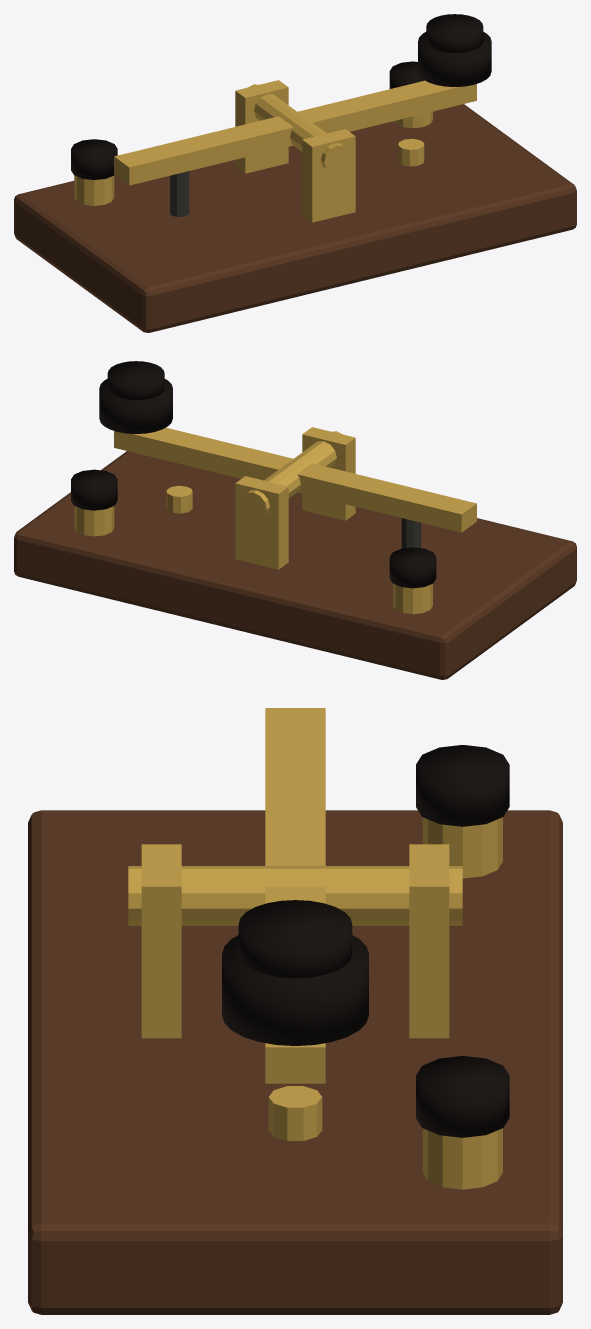
The model's file is morse_key.glb.
The picture shows the model from 3 angles, top to bottom: view 1: azimuth 30°, elevation 25°; view 2: azimuth 150°, elevation 25°; view 3: azimuth 270°, elevation 25°; orthographic projection. The views are drawn at different scales.
Visible parts, largest first — view 1: morse_key_wood, key_lever_brass, morse_key_brass, key_lever_bakelite, morse_key_bakelite, morse_key_metal_dark; view 2: morse_key_wood, key_lever_brass, morse_key_brass, key_lever_bakelite, morse_key_bakelite, morse_key_metal_dark; view 3: morse_key_wood, morse_key_brass, key_lever_brass, key_lever_bakelite, morse_key_bakelite.
Part boxes in pixels (box(x1,y1,x2,y2)): morse_key_wood: box(14, 104, 576, 332); key_lever_brass: box(114, 80, 476, 185); morse_key_brass: box(74, 80, 432, 222); key_lever_bakelite: box(418, 14, 491, 86); morse_key_bakelite: box(71, 61, 424, 179); morse_key_metal_dark: box(170, 171, 189, 216); morse_key_wood: box(14, 451, 576, 679); key_lever_brass: box(114, 427, 476, 532); morse_key_brass: box(74, 427, 432, 614); key_lever_bakelite: box(99, 361, 172, 433); morse_key_bakelite: box(71, 469, 436, 588); morse_key_metal_dark: box(401, 518, 420, 548); morse_key_wood: box(28, 810, 562, 1314); morse_key_brass: box(141, 817, 502, 1189); key_lever_brass: box(128, 708, 462, 1083); key_lever_bakelite: box(222, 900, 368, 1045); morse_key_bakelite: box(416, 745, 509, 1137).
Size of the model in its own units: 0.3 by 0.112 by 0.16.
